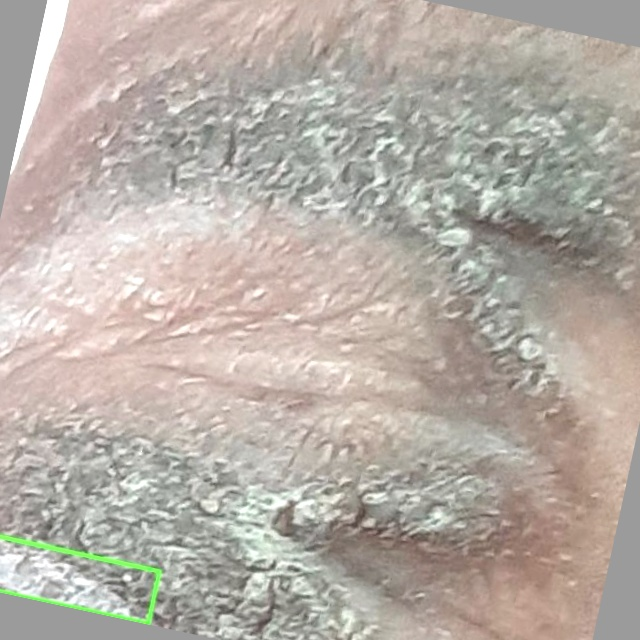Contact Dermatitis: (0, 536, 159, 623)
